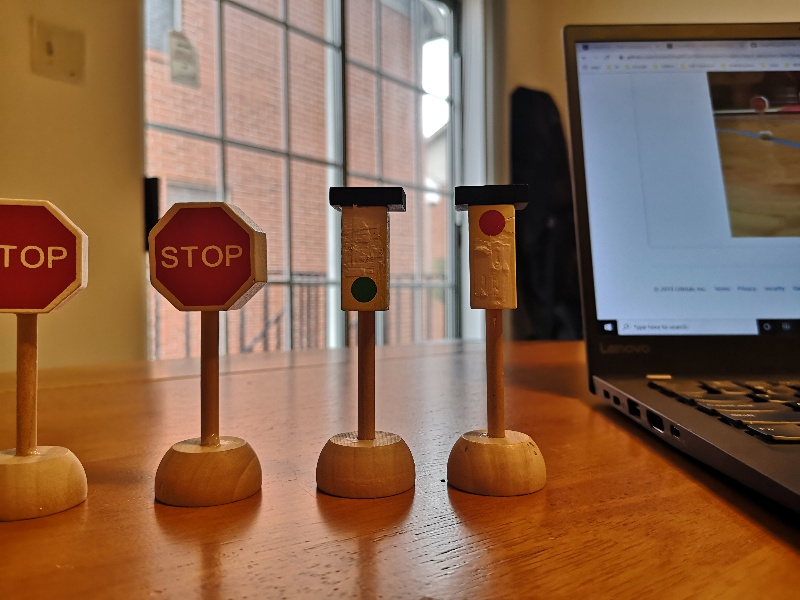Green Traffic Light: (329, 187, 408, 314)
Red Traffic Light: (453, 184, 532, 312)
Stop Sign: (146, 201, 270, 313), (1, 199, 88, 316)
